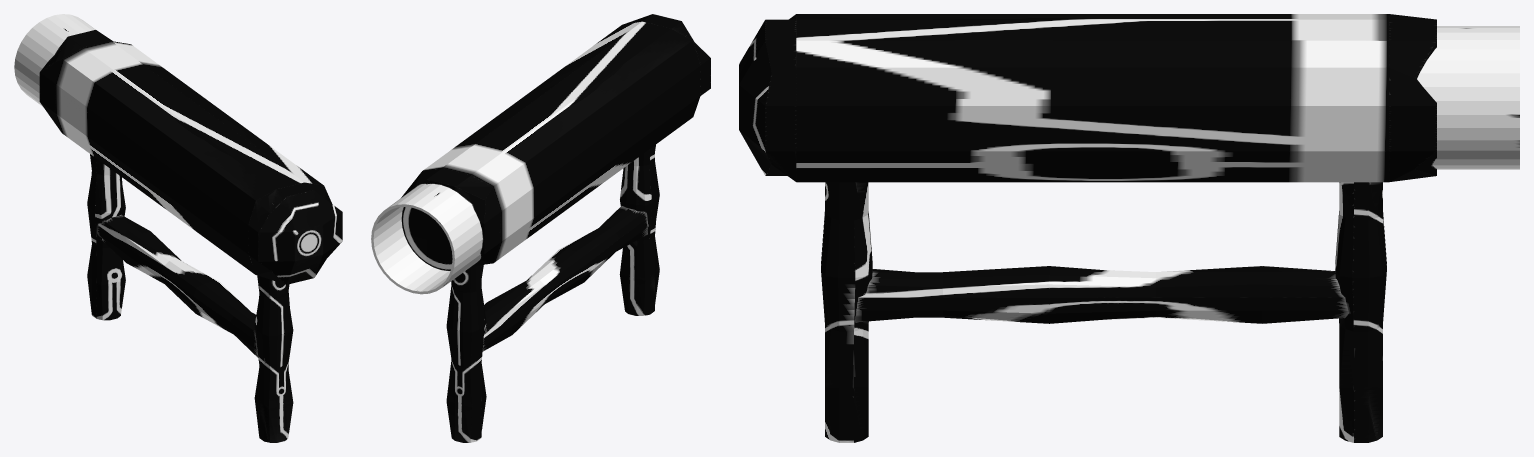
The model's file is Game_Jam_Rocket_Launcher.fbx.
3 views of the same model, side by side, from view 1: azimuth 30°, elevation 25°; view 2: azimuth 150°, elevation 25°; view 3: azimuth 270°, elevation 25° (orthographic). The views are drawn at different scales.
Parts seen in each view (by area): view 1: Cube.003; view 2: Cube.003; view 3: Cube.003.
Part boxes in pixels (<box>): Cube.003: <box>14,14,342,442</box>; Cube.003: <box>371,14,710,442</box>; Cube.003: <box>739,14,1519,442</box>.
Size of the model in its own units: 260 by 775 by 1359.
